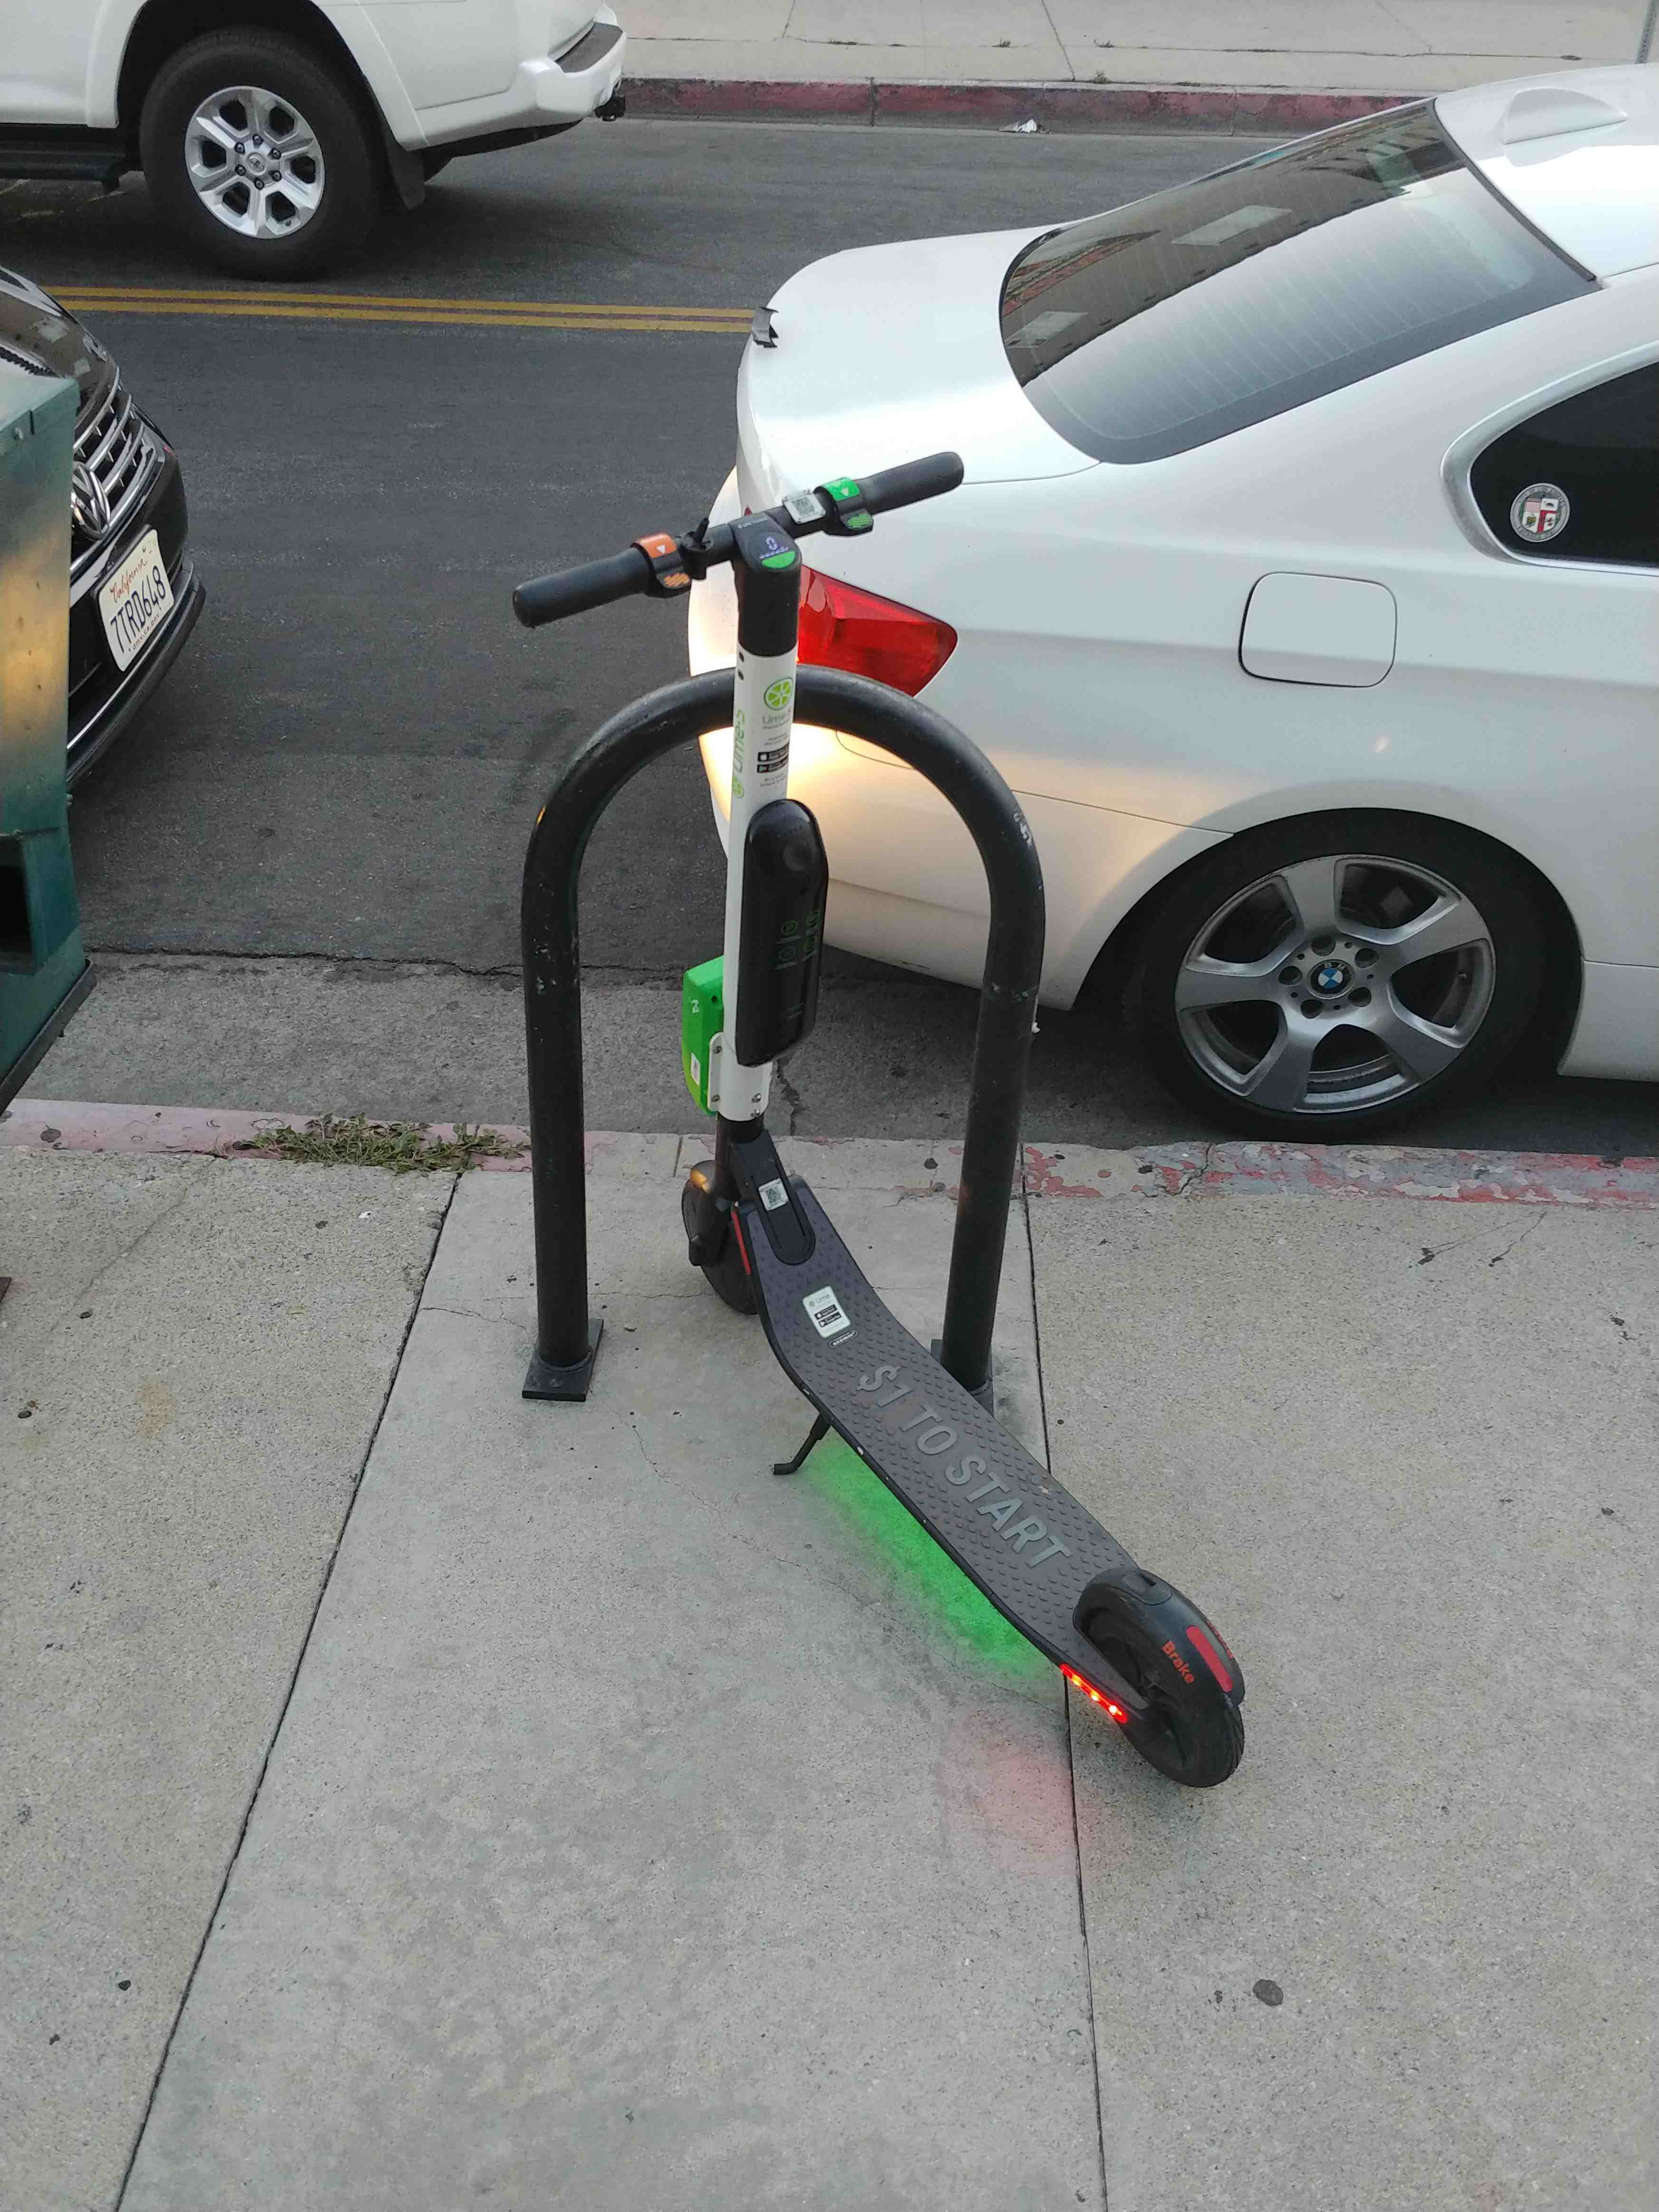scooter: (502, 491, 1239, 1784)
